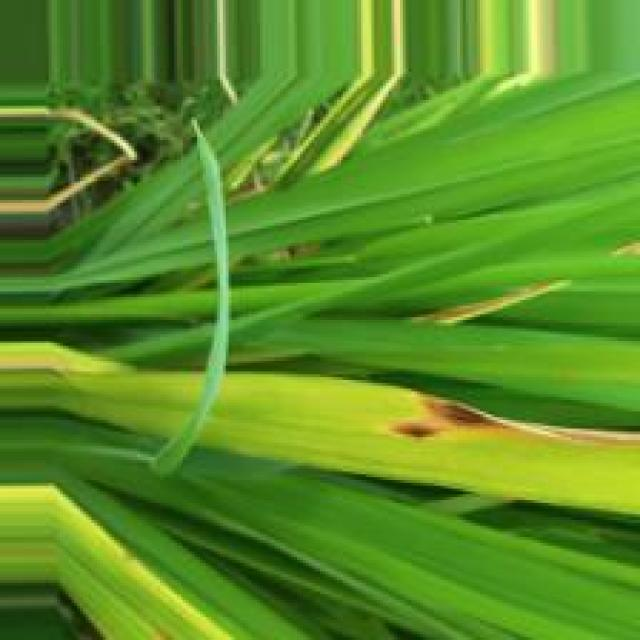Brown_Spot: (387, 388, 621, 443)
